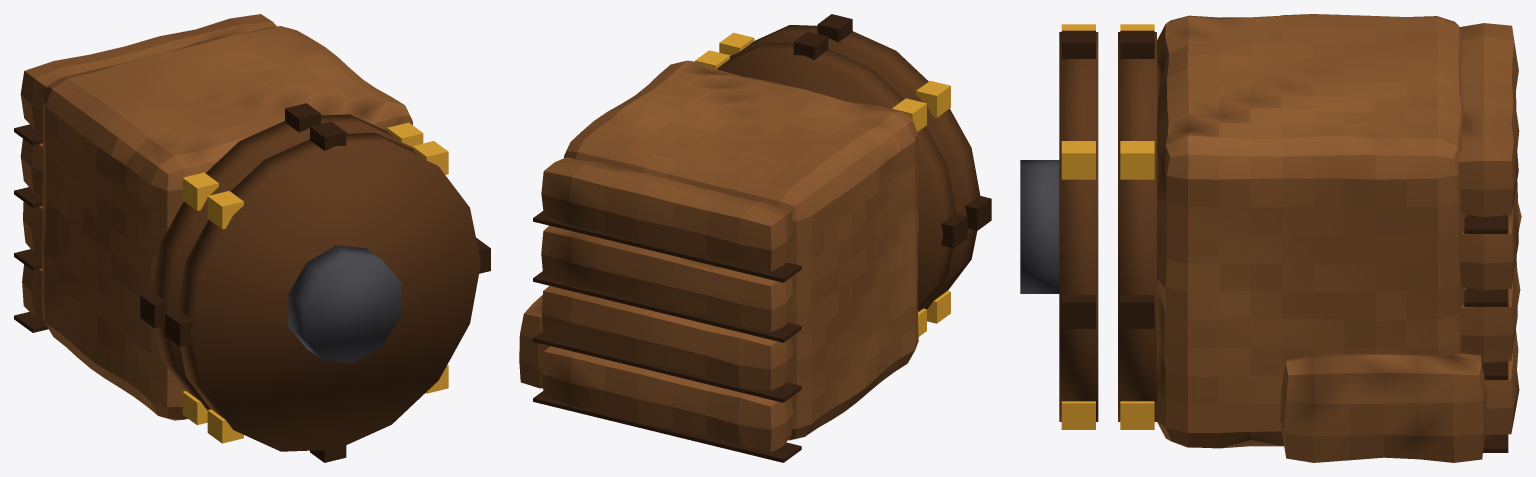
File: golem_fist.glb
3 views of the same model, side by side, from view 1: azimuth 30°, elevation 25°; view 2: azimuth 150°, elevation 25°; view 3: azimuth 270°, elevation 25° (orthographic). The views are drawn at different scales.
Visible parts, largest first — view 1: golem_fist; view 2: golem_fist; view 3: golem_fist.
Part boxes in pixels (<box>): golem_fist: <box>14,14,490,462</box>; golem_fist: <box>519,14,991,462</box>; golem_fist: <box>1020,14,1521,462</box>.
Bounding box in the file's own units: 0.8732 × 0.86 × 1.03.
